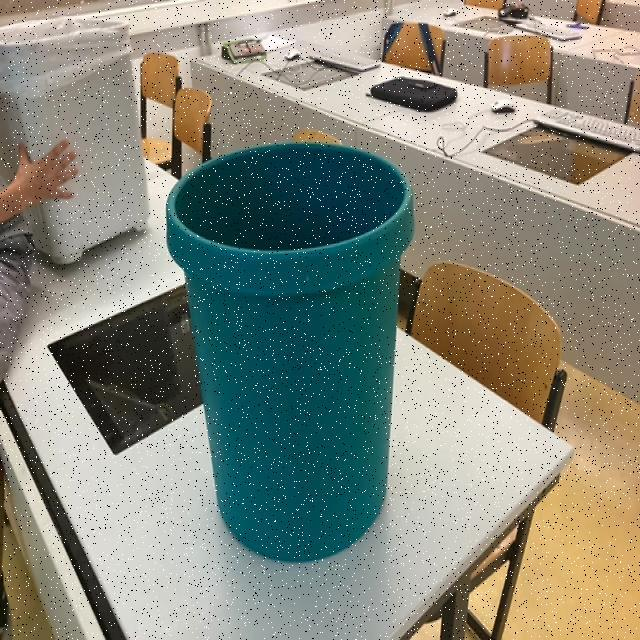garbage container: (146, 90, 414, 588)
